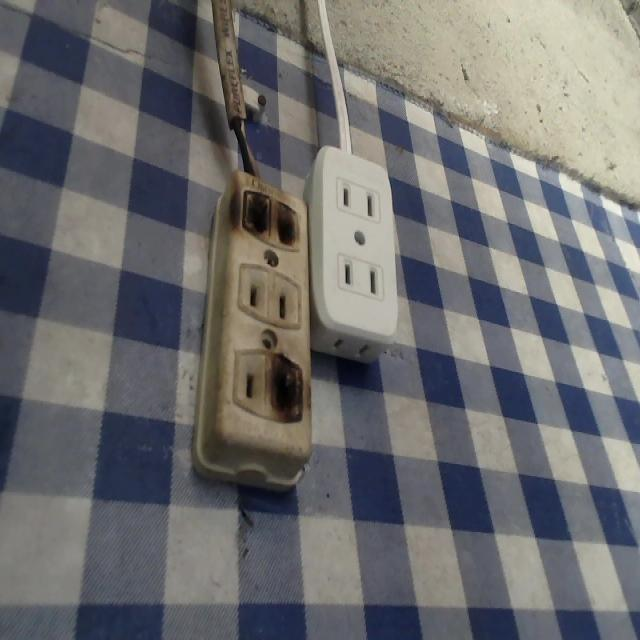-: (234, 182, 306, 255), (262, 348, 307, 429)
